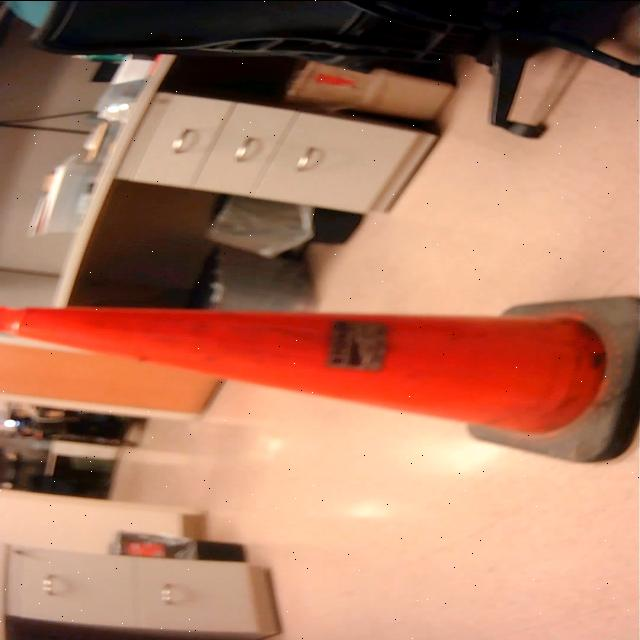traffic cone: (1, 290, 640, 473)
